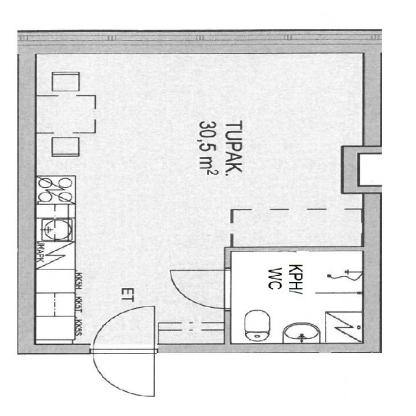door: (90, 302, 166, 404), (169, 266, 235, 312)
window: (348, 148, 386, 190)
zone: (38, 53, 364, 347), (229, 248, 363, 342)
